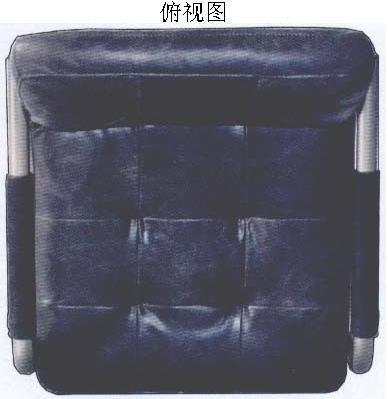obstacle: (6, 28, 378, 392)
